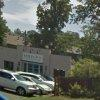Car: (1, 62, 54, 100)
